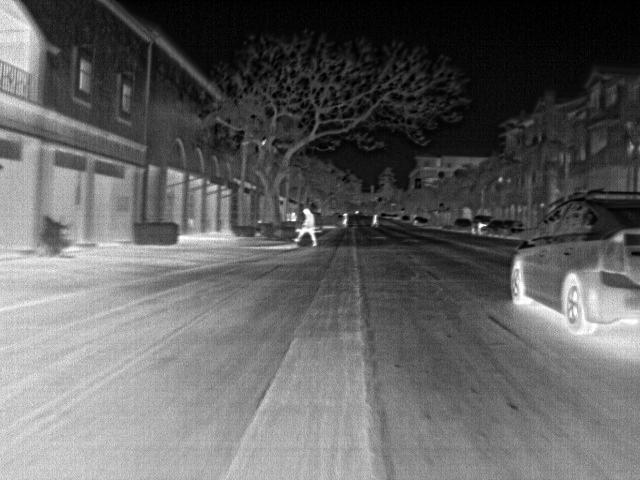car: (503, 188, 638, 336), (481, 220, 513, 239), (471, 214, 495, 236), (451, 216, 475, 234), (416, 216, 432, 228)
person: (289, 206, 320, 250), (339, 210, 351, 231), (370, 212, 382, 230)
